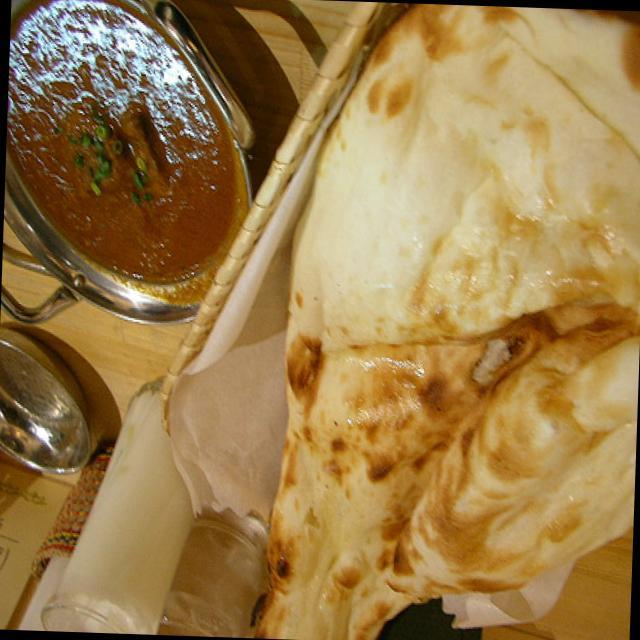Beef Curry: (10, 1, 234, 296)
